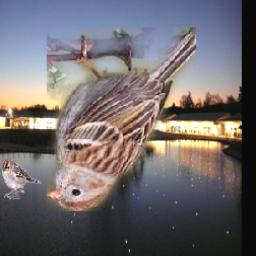Sparrow: (46, 27, 195, 211), (1, 160, 41, 200)
